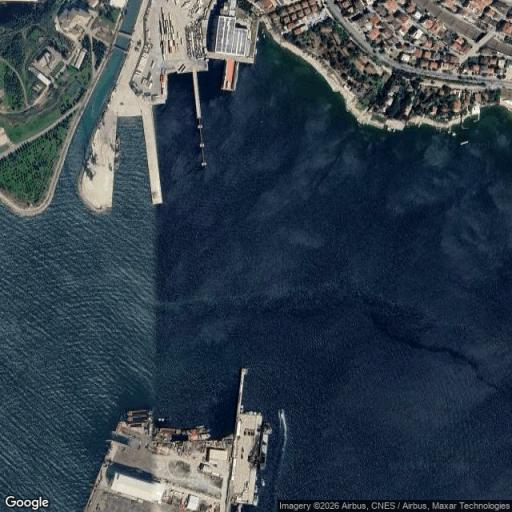ship: (279, 410, 288, 455), (260, 434, 268, 470), (187, 426, 212, 435), (126, 410, 152, 418), (160, 427, 184, 435), (189, 433, 211, 440), (128, 417, 150, 422), (260, 476, 266, 486), (253, 495, 258, 505), (254, 485, 258, 494), (461, 141, 469, 145)
